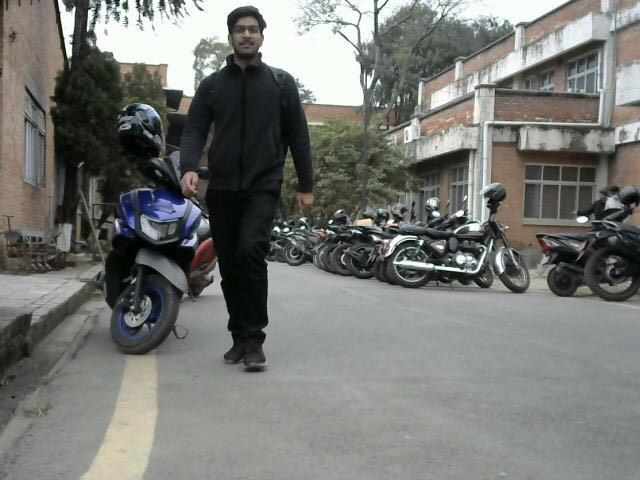Building: (410, 9, 640, 197), (4, 0, 79, 269)
Motorcycle: (96, 101, 202, 354), (288, 204, 539, 295)
Person: (179, 0, 320, 377)
Road: (41, 284, 640, 480)
Tree: (311, 117, 392, 204)
